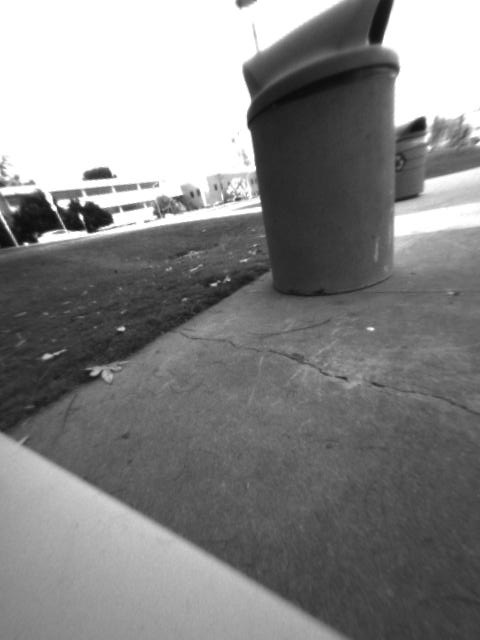trashcan: (231, 1, 404, 299)
